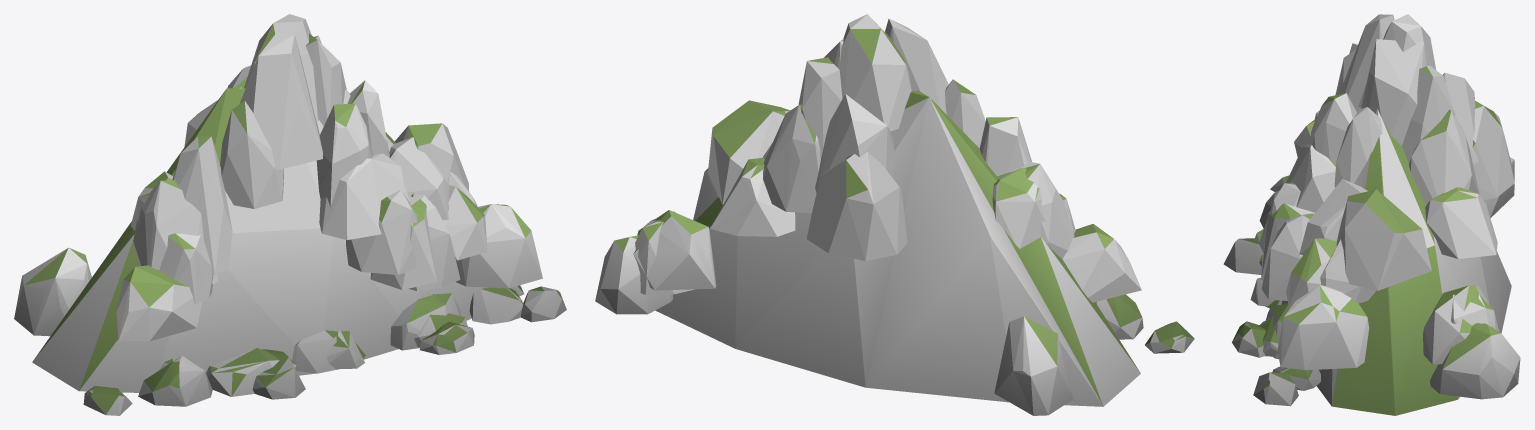
File: rk_mtn_2.glb
The picture shows the model from 3 angles, left to right: view 1: azimuth 30°, elevation 25°; view 2: azimuth 150°, elevation 25°; view 3: azimuth 270°, elevation 25°; orthographic projection. The views are drawn at different scales.
Parts seen in each view (by area): view 1: rk_mtn_2; view 2: rk_mtn_2; view 3: rk_mtn_2.
Part boxes in pixels (x1,y1,x2,y2): rk_mtn_2: (14,14,566,415); rk_mtn_2: (595,14,1194,415); rk_mtn_2: (1223,14,1520,415).
Size of the model in its own units: 103 by 62.21 by 57.13.
